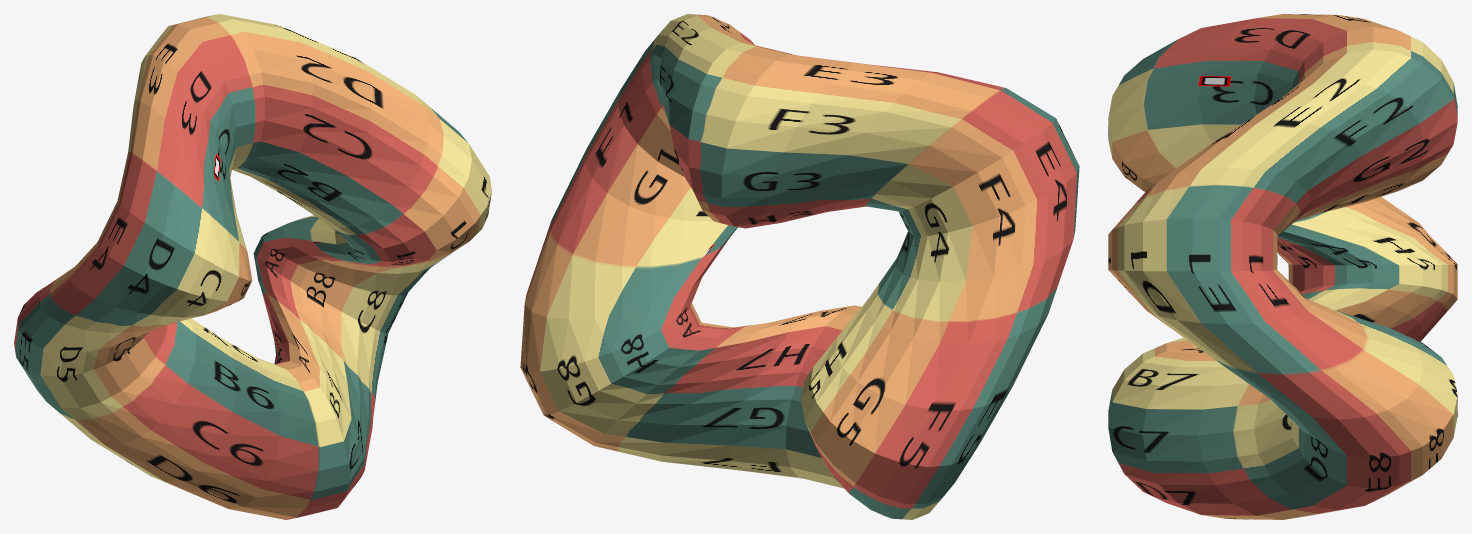
3 renders of one model, left to right at view 1: azimuth 30°, elevation 25°; view 2: azimuth 150°, elevation 25°; view 3: azimuth 270°, elevation 25°, orthographic. The views are drawn at different scales.
Parts seen in each view (by area): view 1: Node-Mesh; view 2: Node-Mesh; view 3: Node-Mesh.
Part boxes in pixels (box(x1,y1,x2,y2)): Node-Mesh: box(14, 14, 491, 519); Node-Mesh: box(520, 14, 1079, 519); Node-Mesh: box(1108, 14, 1457, 519).
Size of the model in its own units: 3 by 2.98 by 2.07.
Materials: 1 (1 with a texture image).
